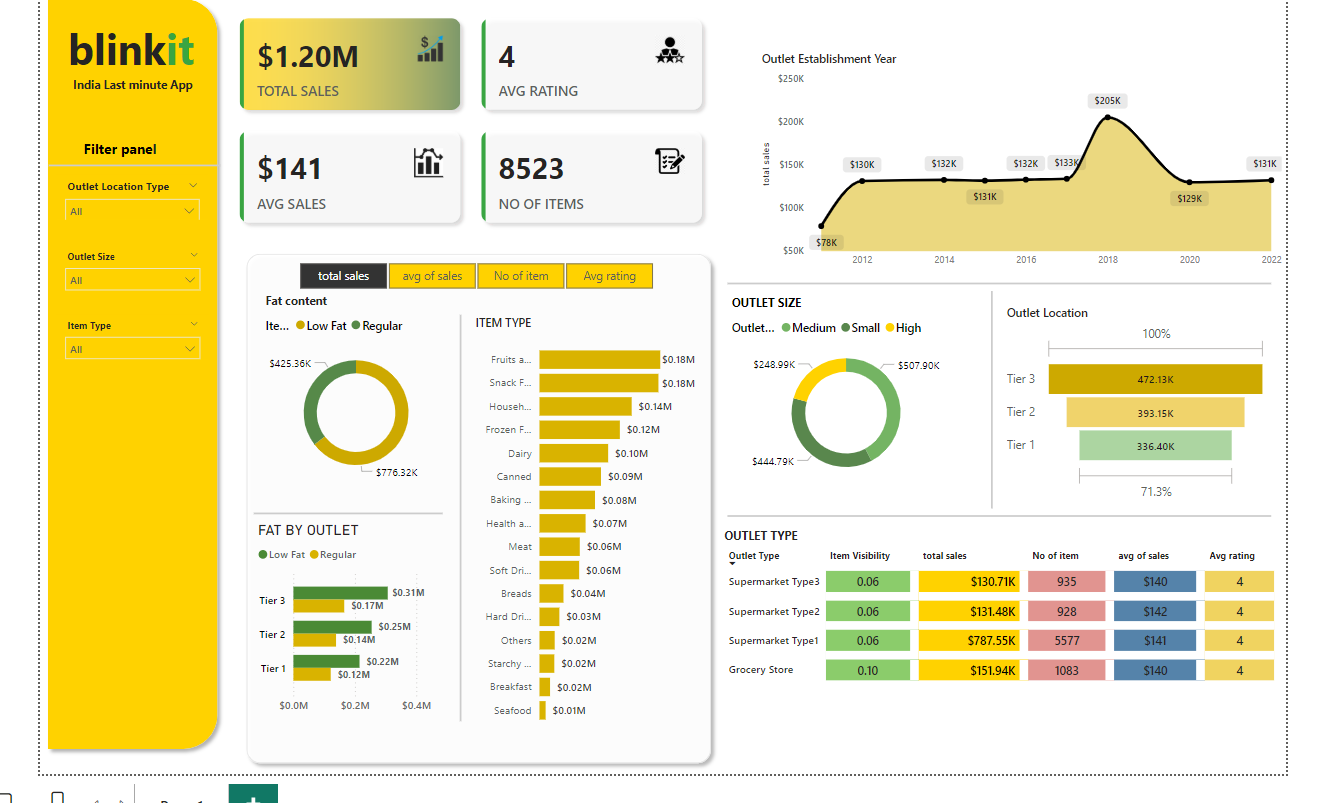

The dashboard page shown, as its layout file describes it:
{"tool":"powerbi","page":{"name":"Page 1","canvas":[1440,905],"ordinal":0},"visuals":[{"type":"shape","box":[0,0,213.9,884.5],"z":0},{"type":"textbox","box":[27.4,28.9,186.3,79.4],"z":1000},{"type":"textbox","box":[33.2,93.9,174.7,46.2],"z":2000},{"type":"cardVisual","fields":{"Data":["BlinkIT Grocery Data.total sales","BlinkIT Grocery Data.Avg rating","BlinkIT Grocery Data.avg of sales","BlinkIT Grocery Data.No of item"]},"box":[214.1,13.7,569.5,270.3],"z":3000},{"type":"shape","box":[229.6,294.5,554.4,606.4],"z":4000},{"type":"donutChart","title":"Fat content","fields":{"Y":["BlinkIT Grocery Data.total sales"],"Category":["BlinkIT Grocery Data.Item Fat Content"]},"box":[255.6,348,219.5,231],"z":5000},{"type":"lineChart","title":"Outlet Establishment Year","fields":{"Y":["BlinkIT Grocery Data.total sales"],"Category":["BlinkIT Grocery Data.Outlet Establishment Year"]},"box":[828.8,69.3,610.7,258.4],"z":6000},{"type":"clusteredBarChart","title":" FAT BY OUTLET","fields":{"Y":["BlinkIT Grocery Data.total sales"],"Category":["BlinkIT Grocery Data.Outlet Location Type"],"Series":["BlinkIT Grocery Data.Item Fat Content"]},"box":[247,611.7,219.7,231.2],"z":7000},{"type":"shape","box":[247,593,218.3,20.1],"z":8000},{"type":"shape","box":[475.3,373.3,21.5,469.5],"z":9000},{"type":"barChart","title":"ITEM TYPE","fields":{"Y":["BlinkIT Grocery Data.total sales"],"Category":["BlinkIT Grocery Data.Item Type"]},"box":[498.2,373.3,264.2,483.9],"z":10000},{"type":"donutChart","title":"OUTLET SIZE","fields":{"Y":["BlinkIT Grocery Data.total sales"],"Category":["BlinkIT Grocery Data.Outlet Size"]},"box":[794.1,350.9,274.3,225.2],"z":11000},{"type":"shape","box":[1090.1,346.5,18.8,251.2],"z":12000},{"type":"funnel","title":" Outlet Location ","fields":{"Y":["Sum(BlinkIT Grocery Data.Sales)"],"Category":["BlinkIT Grocery Data.Outlet Location Type"]},"box":[1111.8,362.4,310.4,231],"z":13000},{"type":"shape","box":[794.1,593.4,628.1,26],"z":14000},{"type":"shape","box":[794.1,324.9,628.1,26],"z":15000},{"type":"pivotTable","title":"OUTLET TYPE","fields":{"Rows":["BlinkIT Grocery Data.Outlet Type"],"Values":["Avg(BlinkIT Grocery Data.Item Visibility)","BlinkIT Grocery Data.total sales","BlinkIT Grocery Data.No of item","BlinkIT Grocery Data.avg of sales","BlinkIT Grocery Data.Avg rating"]},"box":[785.5,619.4,645.4,223.8],"z":16000},{"type":"slicer","fields":{"Values":["BlinkIT Grocery Data.Outlet Location Type"]},"box":[19.1,211.8,175.5,51.8],"z":17000},{"type":"slicer","fields":{"Values":["BlinkIT Grocery Data.Outlet Size"]},"box":[18.8,294.5,176.1,79.4],"z":18000},{"type":"slicer","fields":{"Values":["BlinkIT Grocery Data.Item Type"]},"box":[18.8,374,176.1,52],"z":19000},{"type":"slicer","fields":{"Values":["matrix.matrix"]},"box":[274.3,307.5,457.7,43.3],"z":19001},{"type":"textbox","box":[33.2,166,118.4,33.2],"z":19002},{"type":"shape","box":[10,190,198.2,21.8],"z":19003}]}

Visuals, with their boxes on the page's 1440x905 design canvas (x1, y1, x2, y2). These are canvas units, not pixel positions in the 1330x803 screenshot, which may show the page scaled, cropped or inside an application window:
shape: (left=0, top=0, right=214, bottom=884)
textbox: (left=27, top=29, right=214, bottom=108)
textbox: (left=33, top=94, right=208, bottom=140)
cardVisual - BlinkIT Grocery Data.total sales x BlinkIT Grocery Data.Avg rating: (left=214, top=14, right=784, bottom=284)
shape: (left=230, top=294, right=784, bottom=901)
"Fat content" donutChart: (left=256, top=348, right=475, bottom=579)
"Outlet Establishment Year" lineChart: (left=829, top=69, right=1440, bottom=328)
" FAT BY OUTLET" clusteredBarChart: (left=247, top=612, right=467, bottom=843)
shape: (left=247, top=593, right=465, bottom=613)
shape: (left=475, top=373, right=497, bottom=843)
"ITEM TYPE" barChart: (left=498, top=373, right=762, bottom=857)
"OUTLET SIZE" donutChart: (left=794, top=351, right=1068, bottom=576)
shape: (left=1090, top=346, right=1109, bottom=598)
" Outlet Location " funnel: (left=1112, top=362, right=1422, bottom=593)
shape: (left=794, top=593, right=1422, bottom=619)
shape: (left=794, top=325, right=1422, bottom=351)
"OUTLET TYPE" pivotTable: (left=786, top=619, right=1431, bottom=843)
slicer - BlinkIT Grocery Data.Outlet Location Type: (left=19, top=212, right=195, bottom=264)
slicer - BlinkIT Grocery Data.Outlet Size: (left=19, top=294, right=195, bottom=374)
slicer - BlinkIT Grocery Data.Item Type: (left=19, top=374, right=195, bottom=426)
slicer - matrix.matrix: (left=274, top=308, right=732, bottom=351)
textbox: (left=33, top=166, right=152, bottom=199)
shape: (left=10, top=190, right=208, bottom=212)
